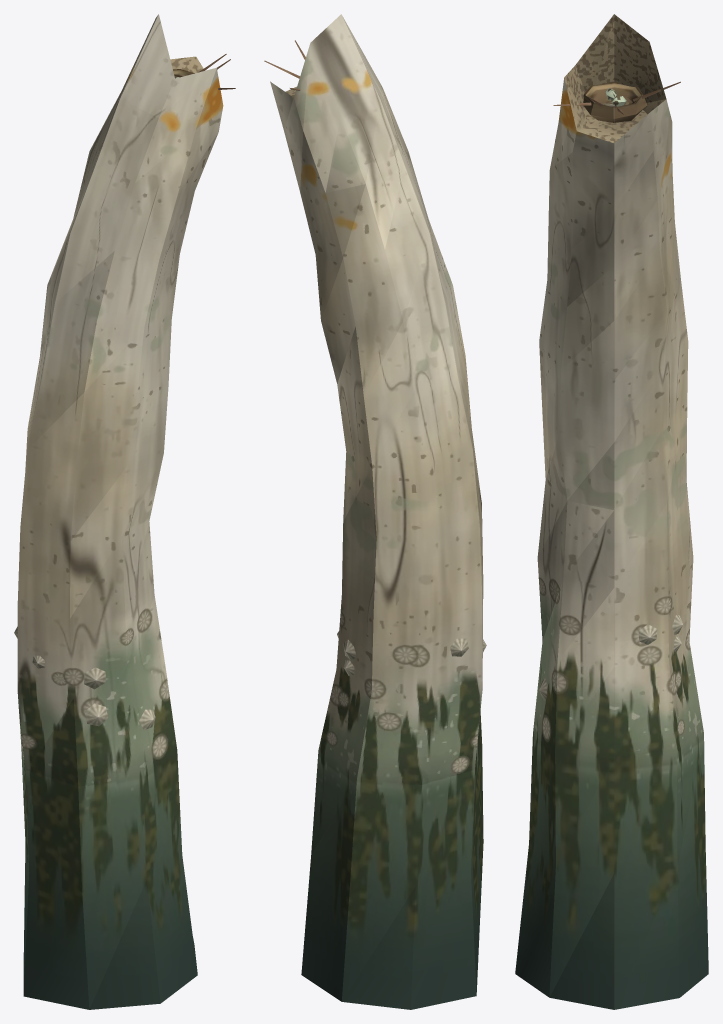
The model's file is rib-b.glb.
3 renders of one model, left to right at view 1: azimuth 30°, elevation 25°; view 2: azimuth 150°, elevation 25°; view 3: azimuth 270°, elevation 25°, orthographic. The views are drawn at different scales.
Parts seen in each view (by area): view 1: rib-b; view 2: rib-b; view 3: rib-b.
Boxes of the visible parts, x1,y1,x2,y2 form: rib-b: (14,14,235,1009); rib-b: (264,14,486,1009); rib-b: (515,14,708,1009).
Bounding box in the file's own units: 2.49 × 10.56 × 1.87.
1 material, 1 textured.
